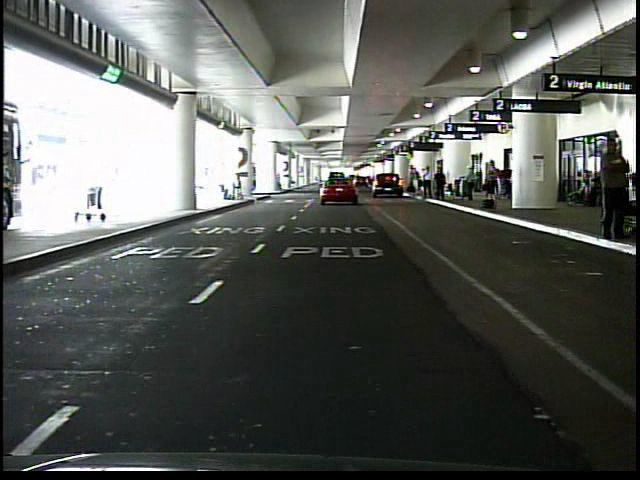person: (593, 137, 628, 246), (482, 161, 497, 210), (464, 166, 478, 203), (433, 168, 446, 203), (422, 165, 434, 200), (408, 167, 419, 198), (228, 173, 240, 201), (274, 173, 283, 190)
